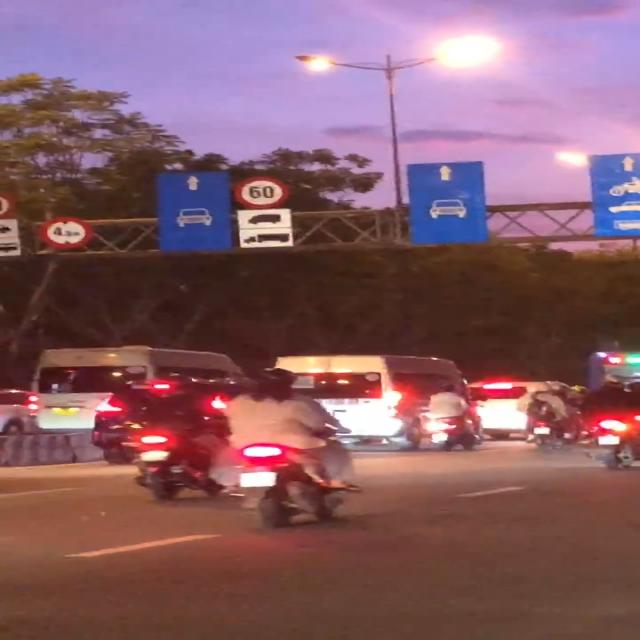Bien bao han che chieu cao: (37, 212, 87, 252)
